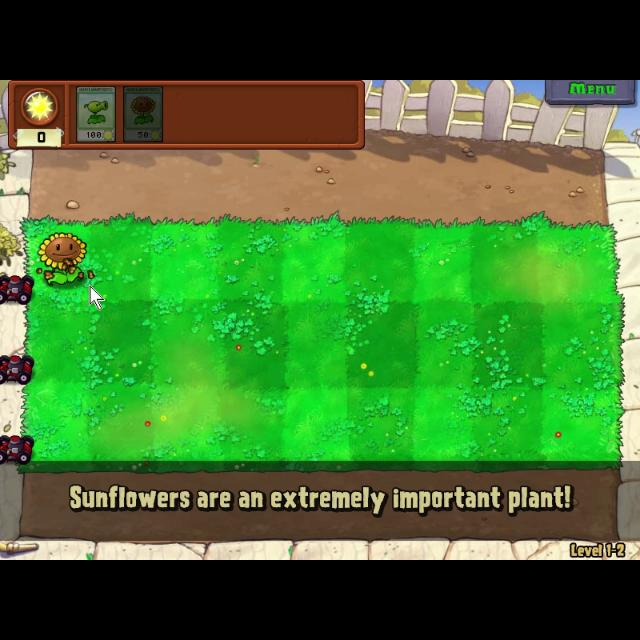Garden: (18, 213, 624, 475)
Menu Button: (542, 80, 638, 106)
Mower: (0, 434, 36, 466), (1, 351, 32, 383), (0, 273, 32, 303)
Peashooter: (75, 84, 118, 144)
Seed Panel: (7, 80, 367, 152)
Sunflower: (122, 84, 164, 146)
Sunflower Seed: (36, 230, 96, 288)
